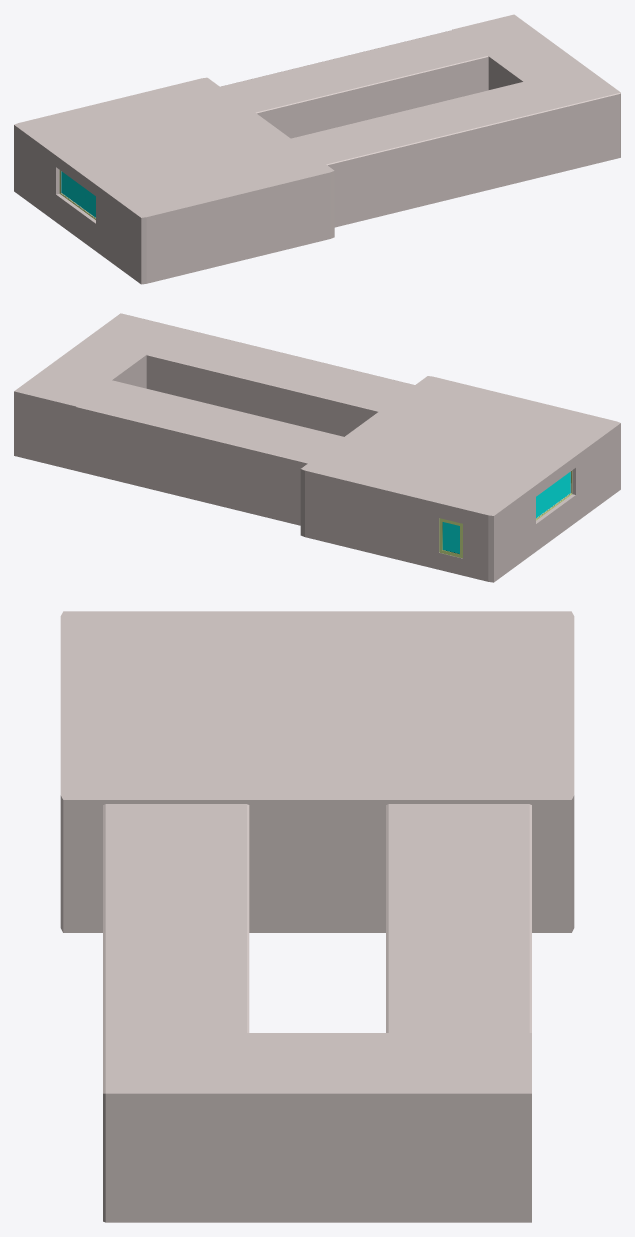
Rendered from AmbienteAracnophobiaExperimental.fbx.
3 views of the same model, one above another, from view 1: azimuth 30°, elevation 25°; view 2: azimuth 150°, elevation 25°; view 3: azimuth 270°, elevation 25° (orthographic). The views are drawn at different scales.
Parts seen in each view (by area): view 1: AmbientePareti, #WIN0003_Window.001; view 2: AmbientePareti, #WIN0003_Window.001, #WIN0003_Window; view 3: AmbientePareti.
Boxes of the visible parts, left/top/right/bottom form: AmbientePareti: left=14, top=14, right=620, bottom=284; #WIN0003_Window.001: left=59, top=170, right=95, bottom=219; AmbientePareti: left=14, top=313, right=620, bottom=582; #WIN0003_Window.001: left=536, top=470, right=572, bottom=520; #WIN0003_Window: left=439, top=518, right=462, bottom=558; AmbientePareti: left=60, top=611, right=574, bottom=1222.
Size of the model in its own units: 2002 by 264 by 909.
